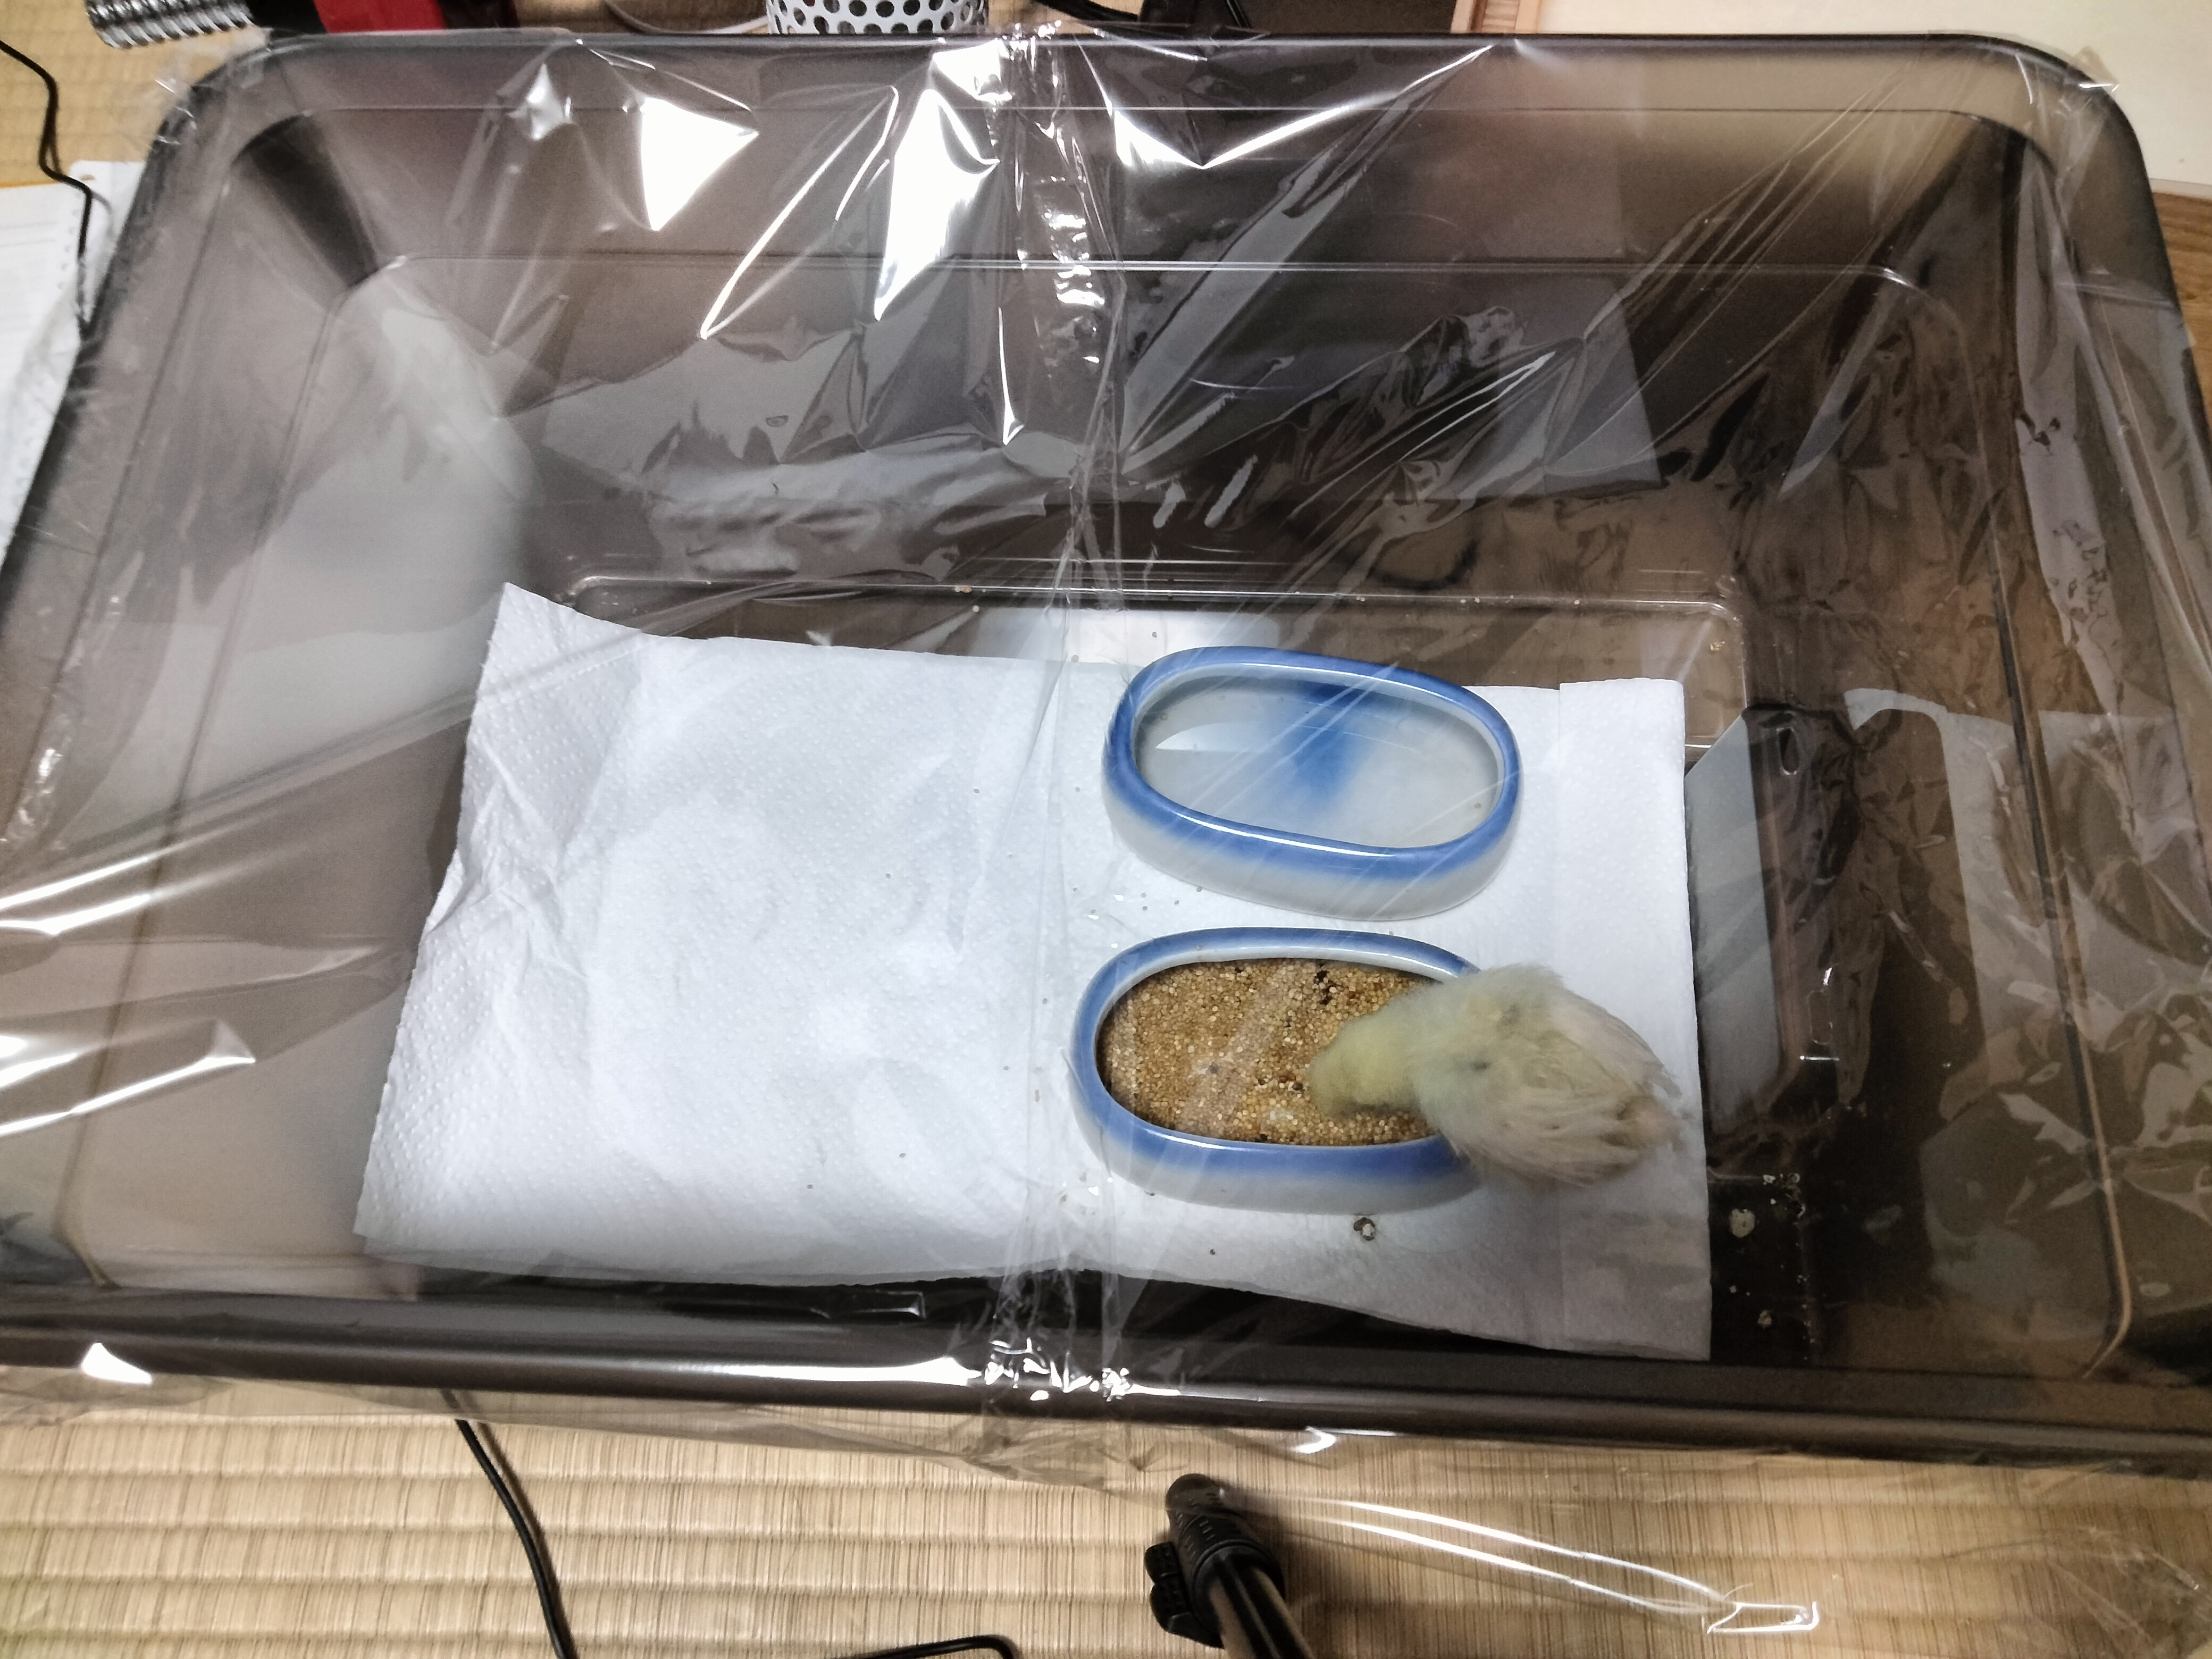shiro: (1258, 917, 1723, 1227)
